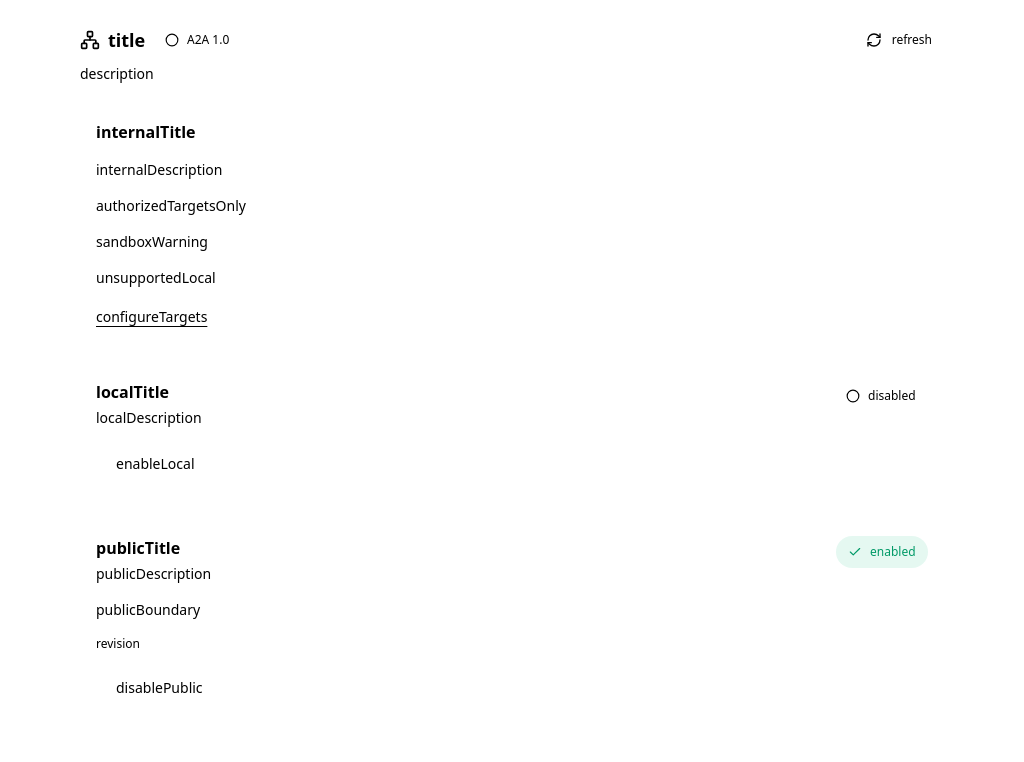
agent A2A management › confirms public toggles and surfaces rejected mutations
Click the button "disablePublic" at (159,688), box top-left (96, 668), bottom-right (223, 708)
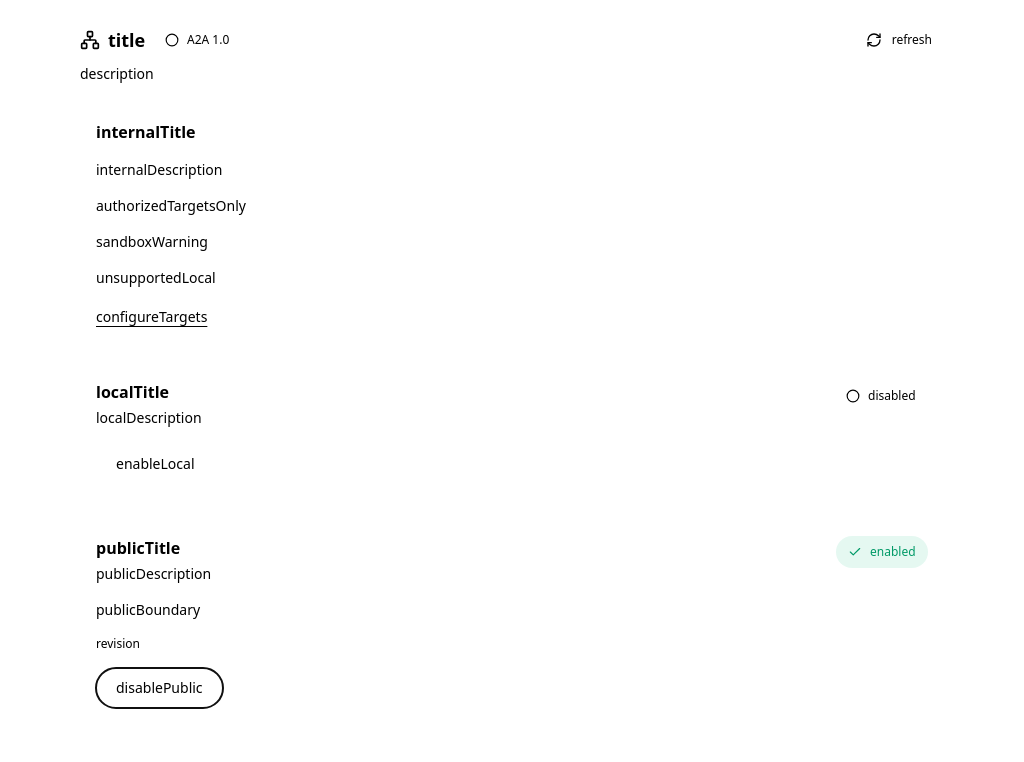
Click the button "disablePublic" at (159,688), box top-left (96, 668), bottom-right (223, 708)
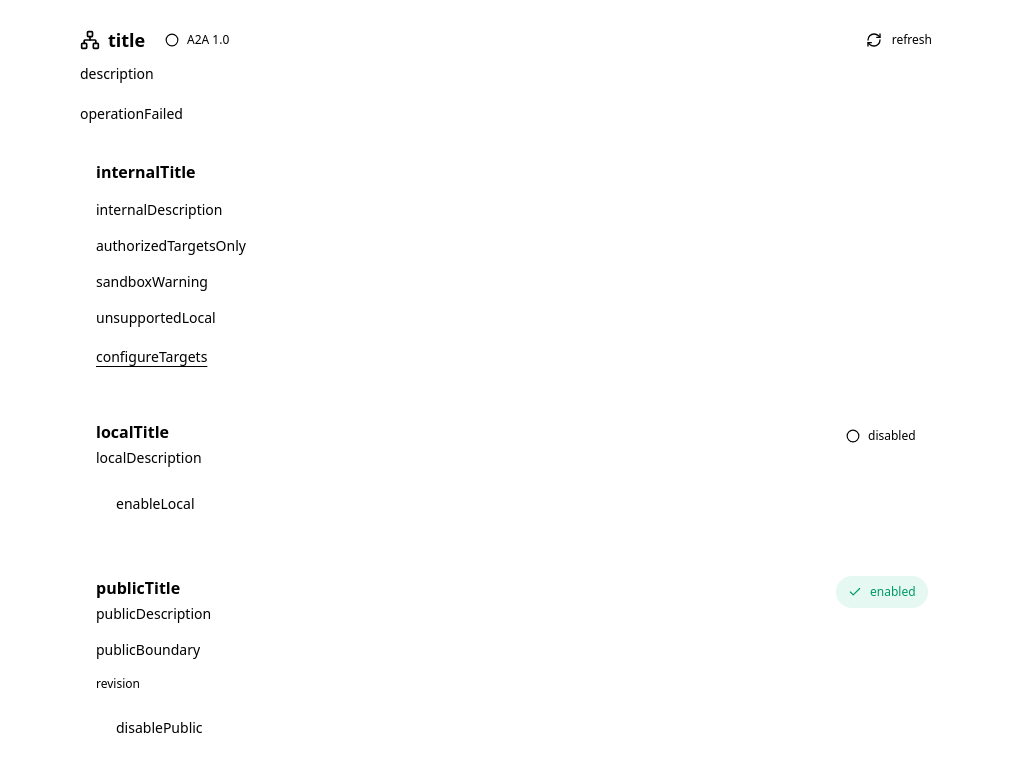
Expected: the text "operationFailed" is shown, top-left (80, 104), bottom-right (183, 123)
